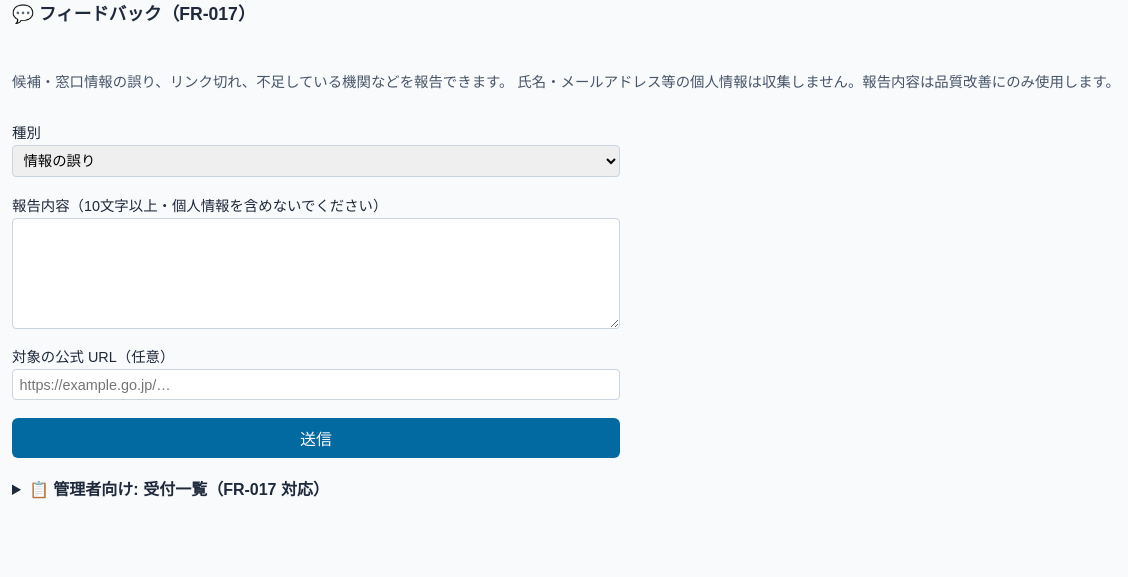
Test: FeedbackPage（FR-017） › 送信成功で受付番号を表示し、フォームをリセットする
In the text box labelled "報告内容（10文字以上・個人情報を含めないでください）": (316, 273) [12,218,620,329], type "みらい市の道路管理課の電話番号が変わっています（デモ報告）"
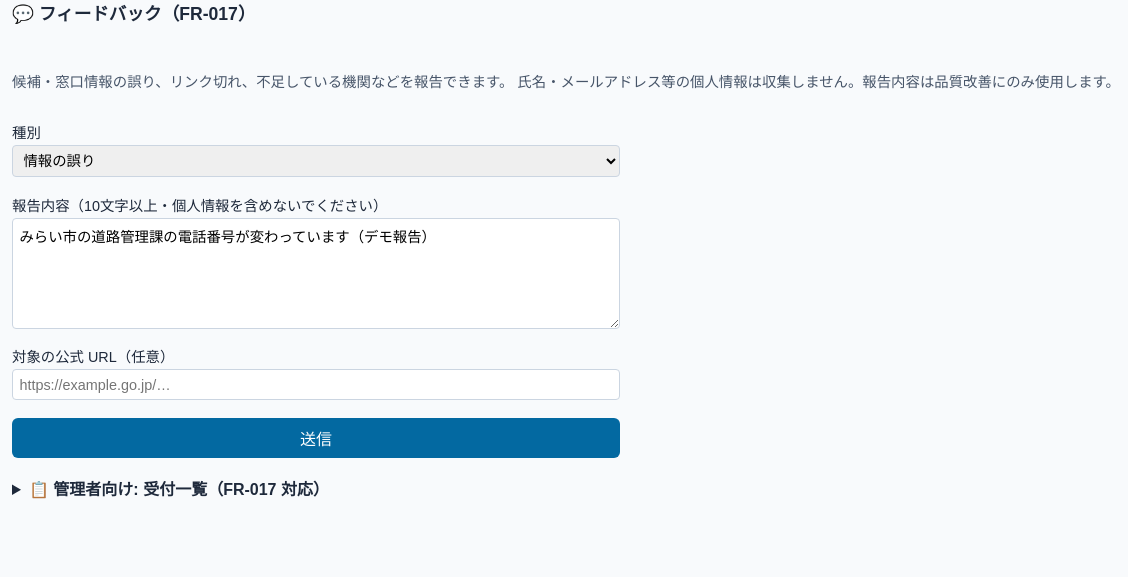
Click the button "送信": (316, 438) [12,418,620,458]
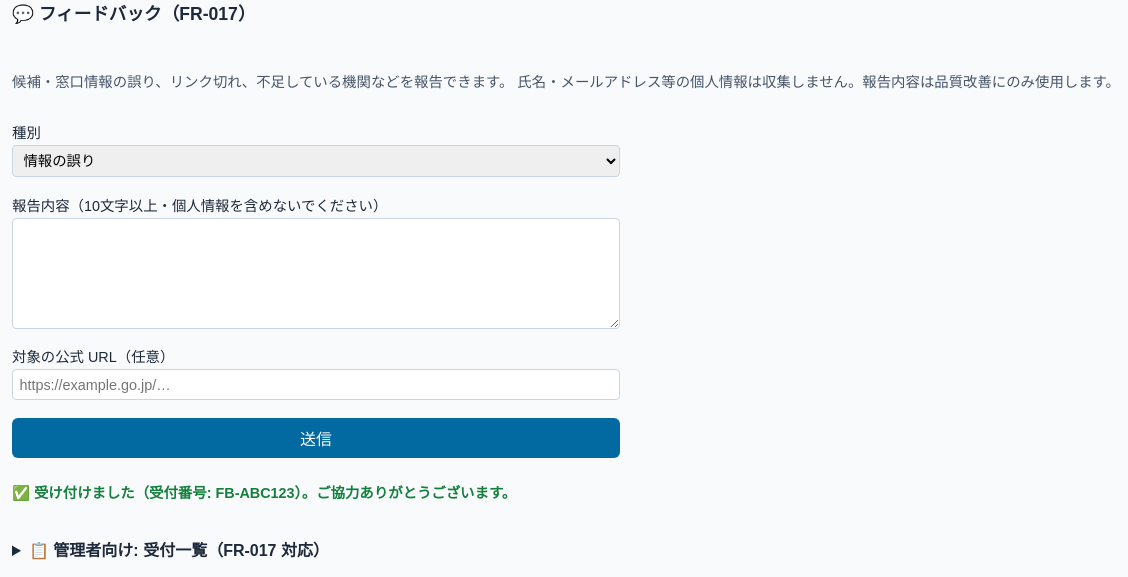
Expected: the text "✅ 受け付けました（受付番号: FB-ABC123）。ご協力ありがとうございます。" is shown, [12,485,516,501]
